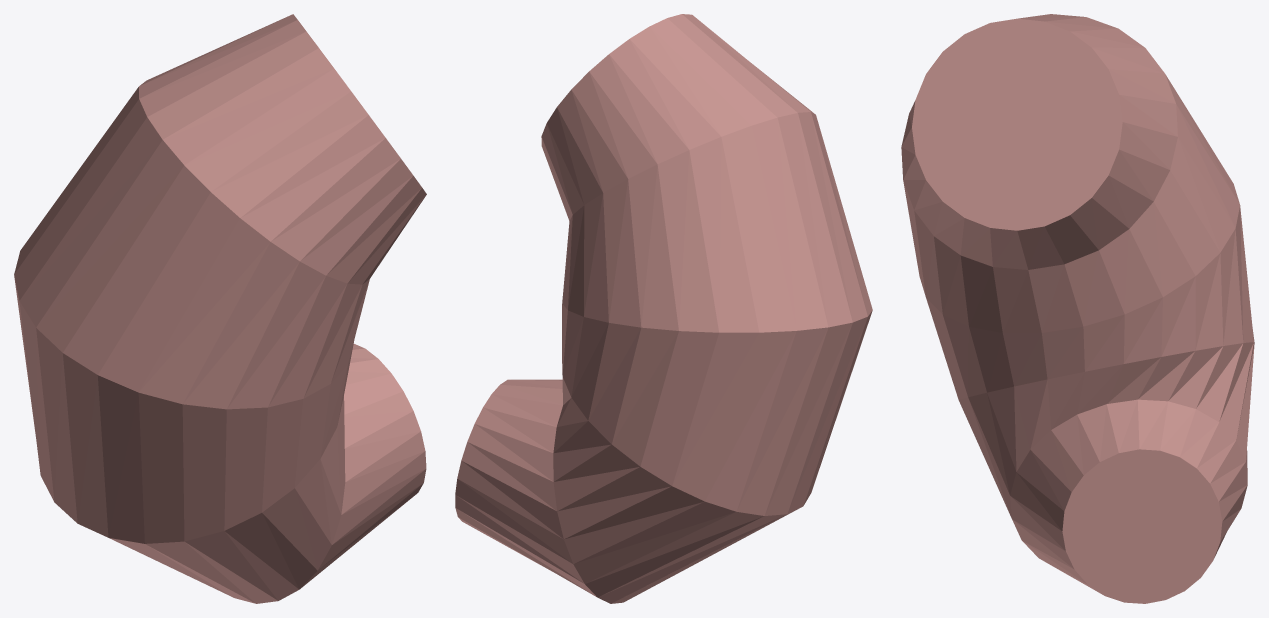
The model's file is stomach.glb.
3 renders of one model, left to right at view 1: azimuth 30°, elevation 25°; view 2: azimuth 150°, elevation 25°; view 3: azimuth 270°, elevation 25°, orthographic. The views are drawn at different scales.
Parts seen in each view (by area): view 1: stomach; view 2: stomach; view 3: stomach.
Boxes of the visible parts, x1,y1,x2,y2 form: stomach: (14,14,426,603); stomach: (455,14,872,603); stomach: (901,14,1254,603).
Size of the model in its own units: 0.0952 by 0.141 by 0.0791.
